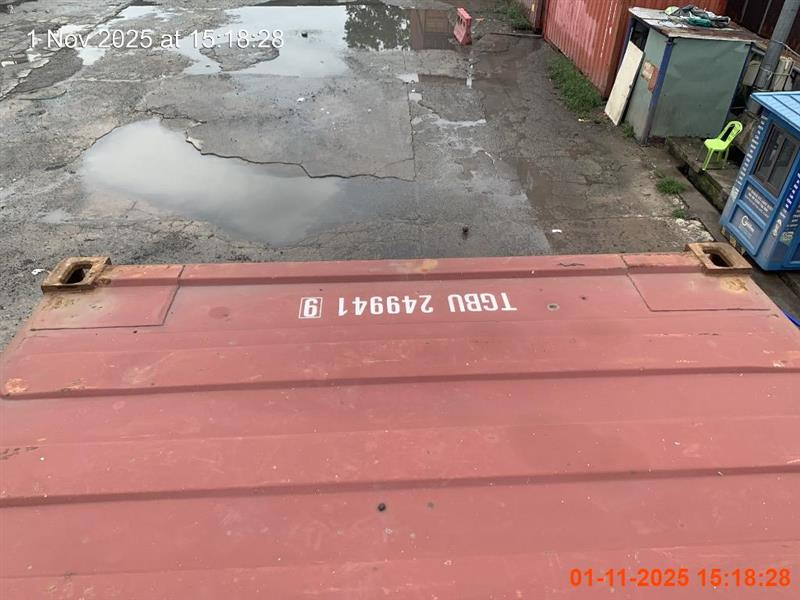broken: (701, 120, 743, 171)
